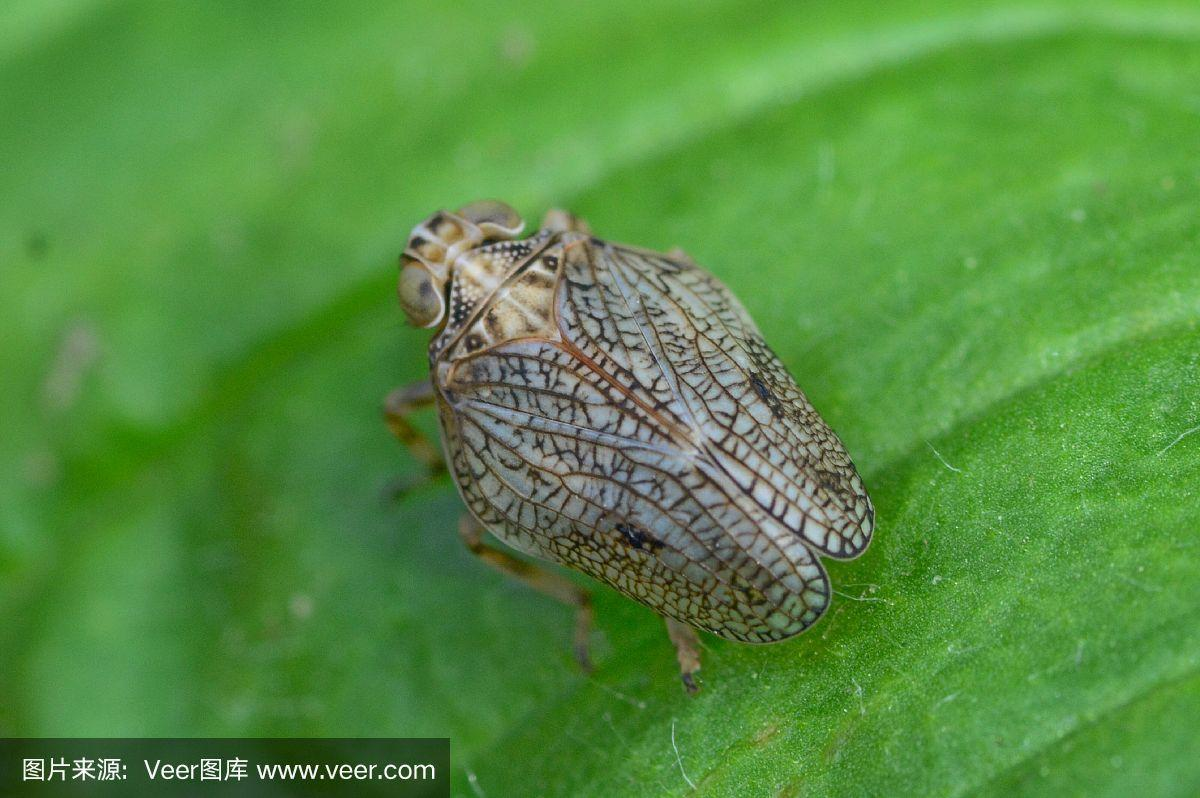Delphacidae: (376, 197, 879, 695)
